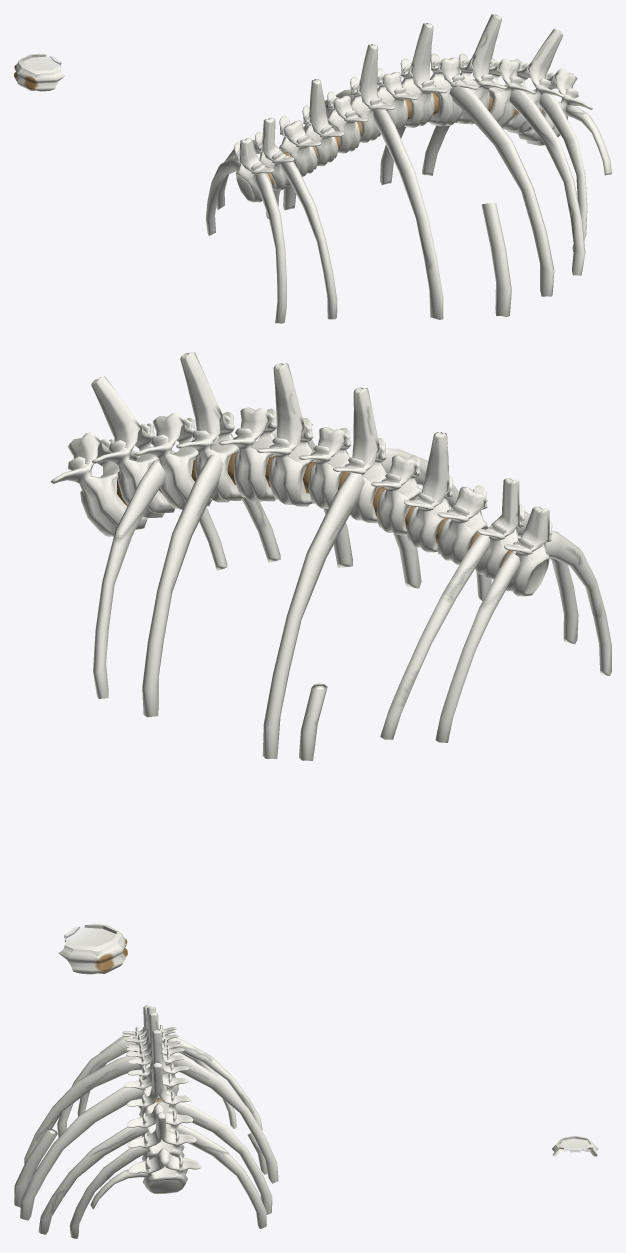
The model's file is Ribcage.fbx.
3 renders of one model, top to bottom at view 1: azimuth 30°, elevation 25°; view 2: azimuth 150°, elevation 25°; view 3: azimuth 270°, elevation 25°, orthographic. The views are drawn at different scales.
Parts seen in each view (by area): view 1: pCylinder13, pCube1; view 2: pCylinder13, pCube1; view 3: pCylinder13, pCube1.
Part boxes in pixels (box(x1,y1,x2,y2)): pCylinder13: box(205, 14, 611, 323); pCube1: box(14, 53, 65, 91); pCylinder13: box(50, 352, 611, 760); pCube1: box(59, 923, 127, 974); pCylinder13: box(14, 1005, 278, 1238); pCube1: box(552, 1135, 598, 1156).
Size of the model in its own units: 12.51 by 7.71 by 23.25.
Materials: 1 (1 with a texture image).
